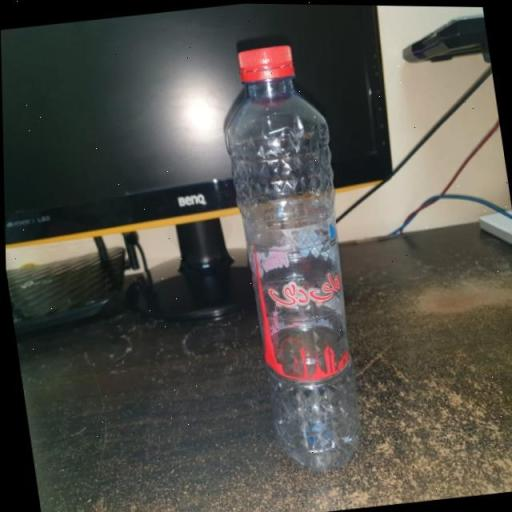plastic: (198, 23, 382, 479)
